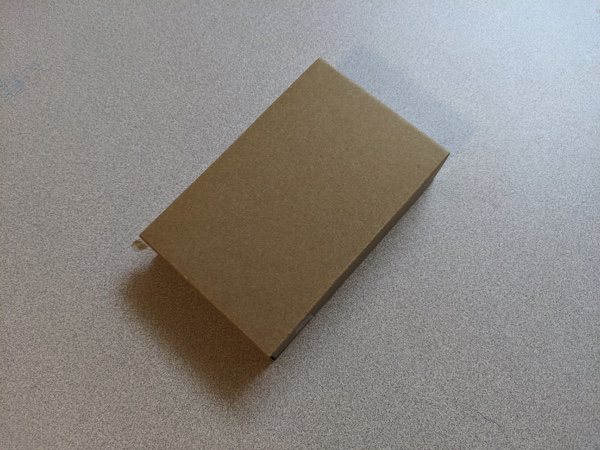cardboard: (120, 44, 470, 384)
